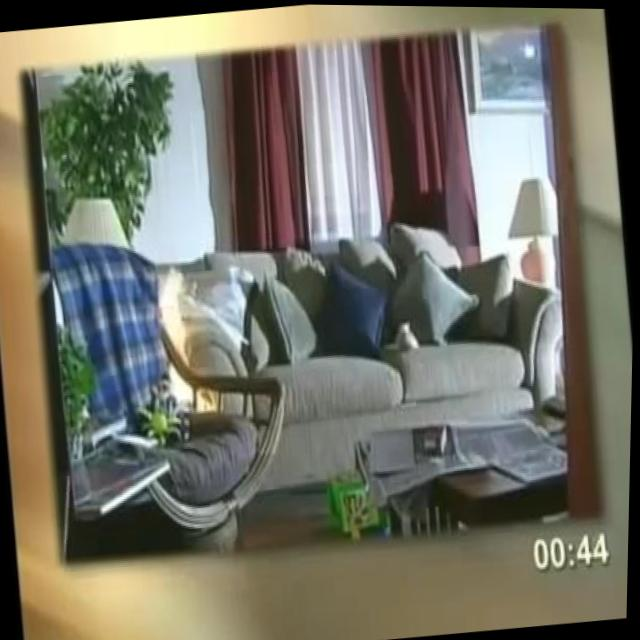fire: (154, 263, 219, 416)
